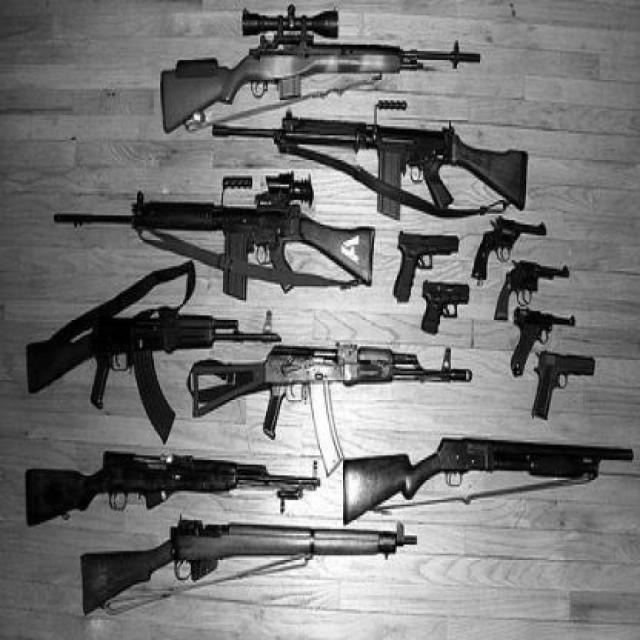weapon: (53, 170, 375, 302), (161, 5, 482, 136), (212, 101, 530, 221), (26, 310, 283, 446), (79, 516, 418, 619), (185, 346, 472, 440), (342, 438, 636, 528), (27, 450, 324, 530), (390, 229, 461, 303), (470, 217, 548, 281), (530, 349, 596, 422), (496, 259, 572, 322), (510, 308, 576, 375), (418, 280, 472, 337)
